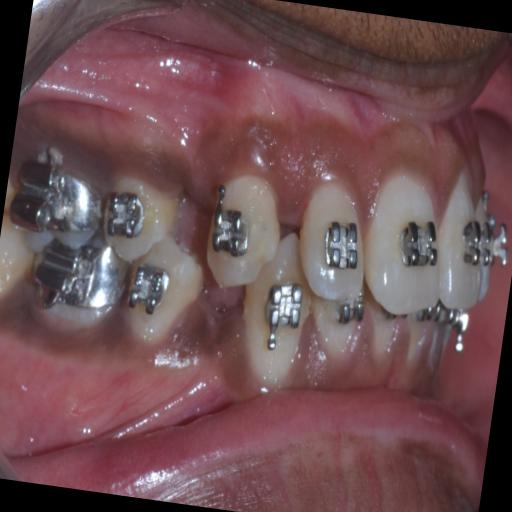correct_brace: (87, 160, 188, 274), (394, 210, 444, 270), (316, 218, 365, 276), (204, 204, 254, 260)
incorrect_brace: (284, 172, 381, 310), (95, 187, 149, 242)
